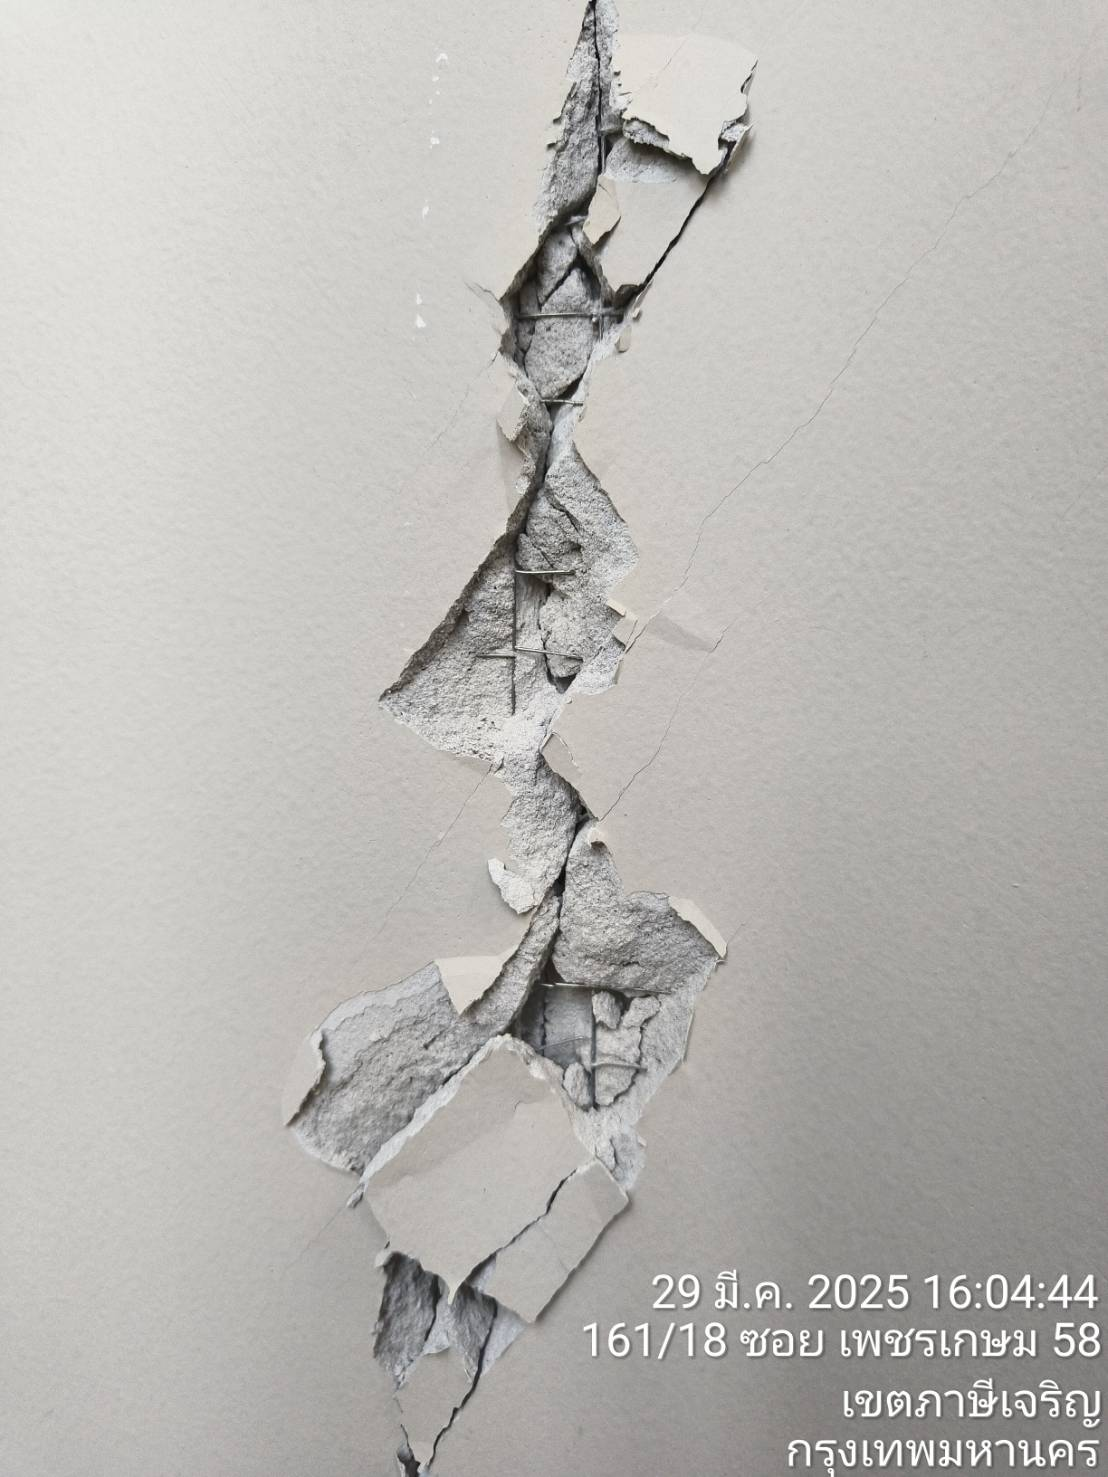Medium: (308, 33, 823, 1216)
